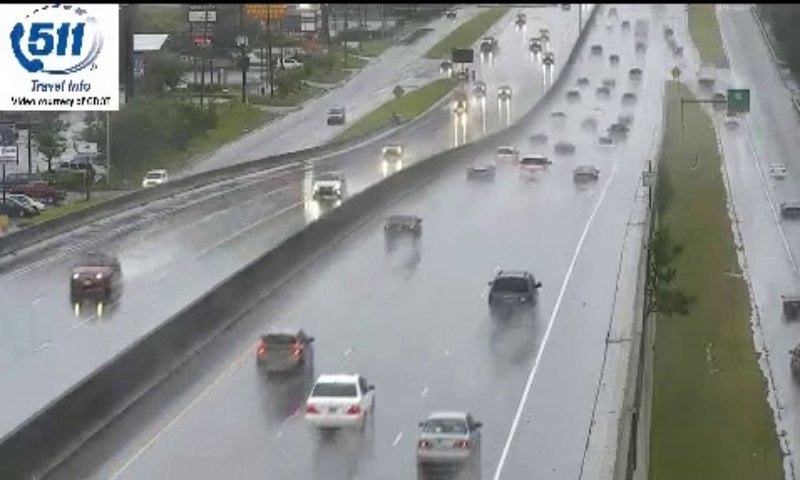car: (304, 373, 374, 426), (415, 411, 480, 464), (256, 327, 311, 377), (488, 272, 537, 312)
